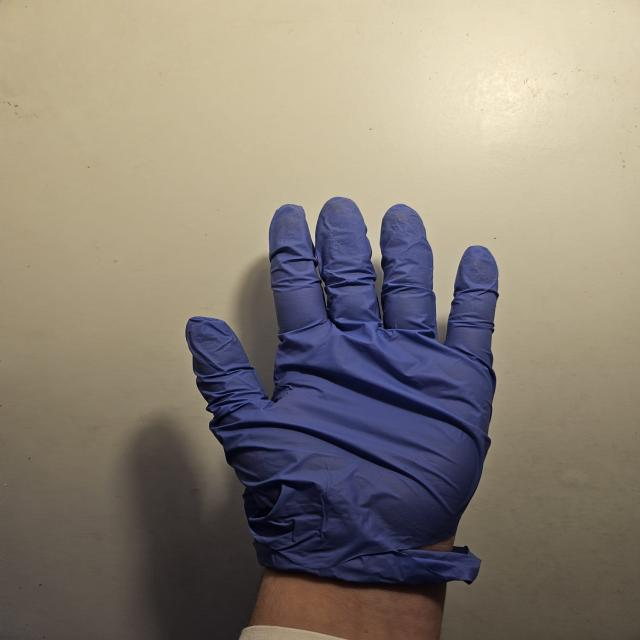gloves_damaged: (185, 197, 498, 586)
